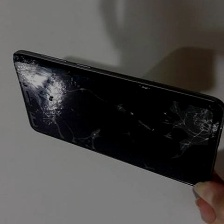phone: (5, 46, 223, 194)
